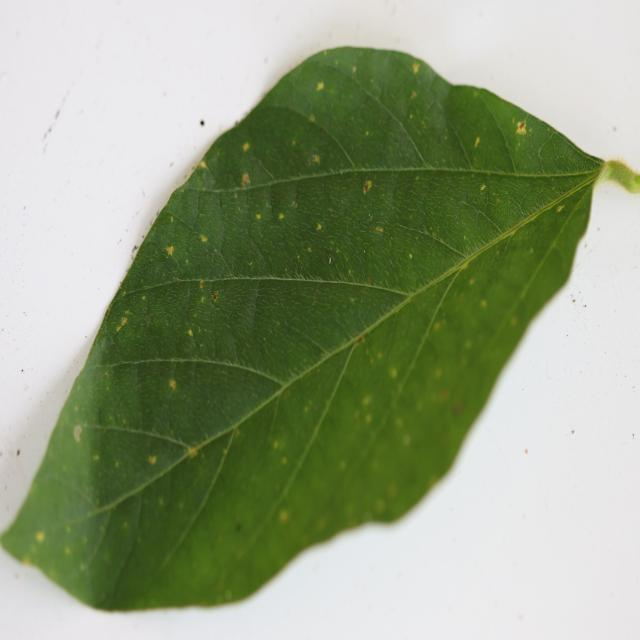Soybean: (0, 46, 607, 615)
downey_mildew: (47, 383, 252, 602), (229, 341, 371, 570), (309, 294, 443, 499), (127, 168, 548, 230), (104, 273, 320, 389), (488, 190, 591, 340), (144, 178, 279, 292), (336, 160, 434, 291), (203, 106, 350, 188), (369, 58, 470, 167), (442, 87, 548, 172), (74, 421, 206, 458), (98, 371, 148, 436), (182, 253, 199, 361)
